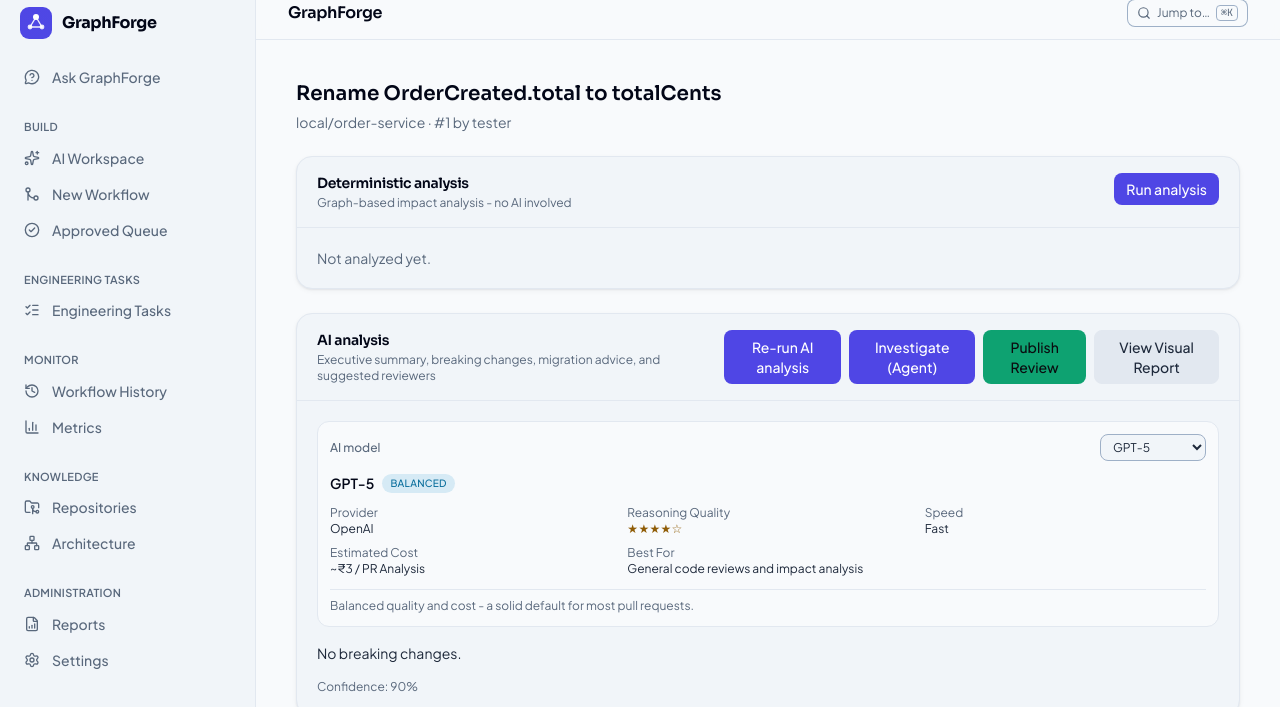
Test: PullRequestDetailPage - Publish Review › enables Publish Review once an AI analysis exists and publishes it
Click the button "Publish Review": click(1035, 357) [983,330,1086,384]
(page scrolled)
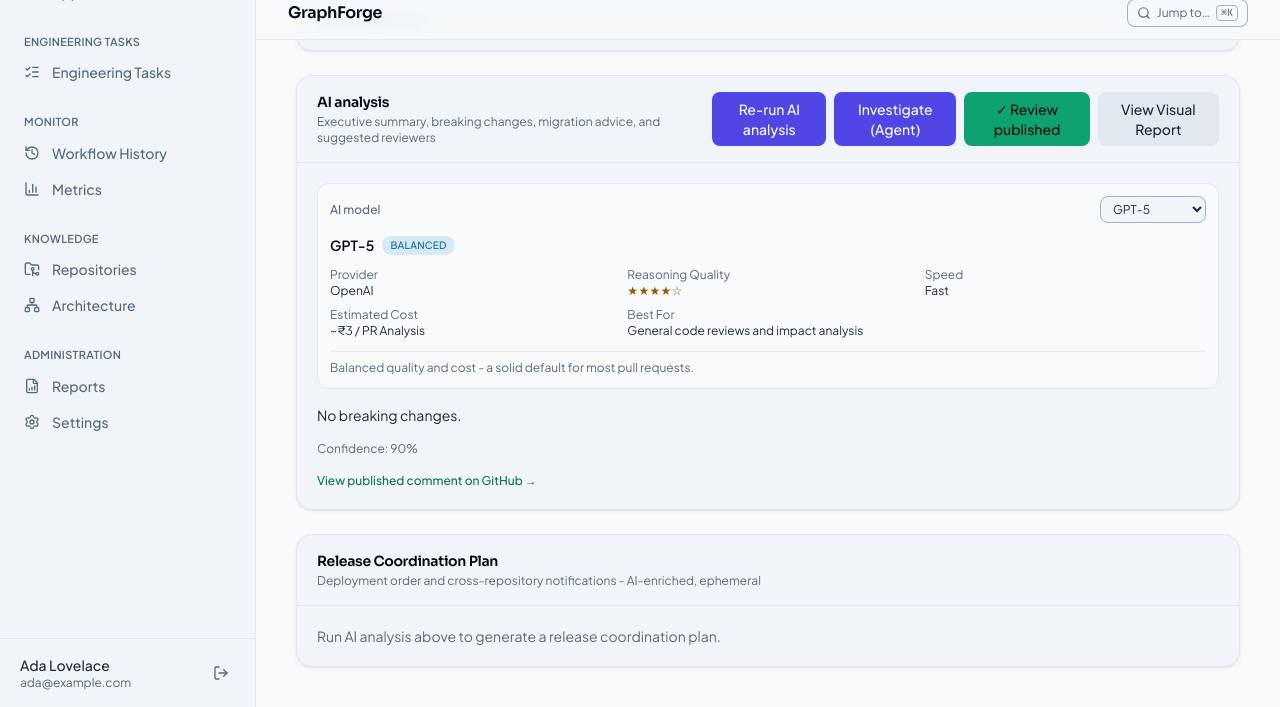
Check: the button "✓ Review published" is shown, box [964,92,1090,146]
